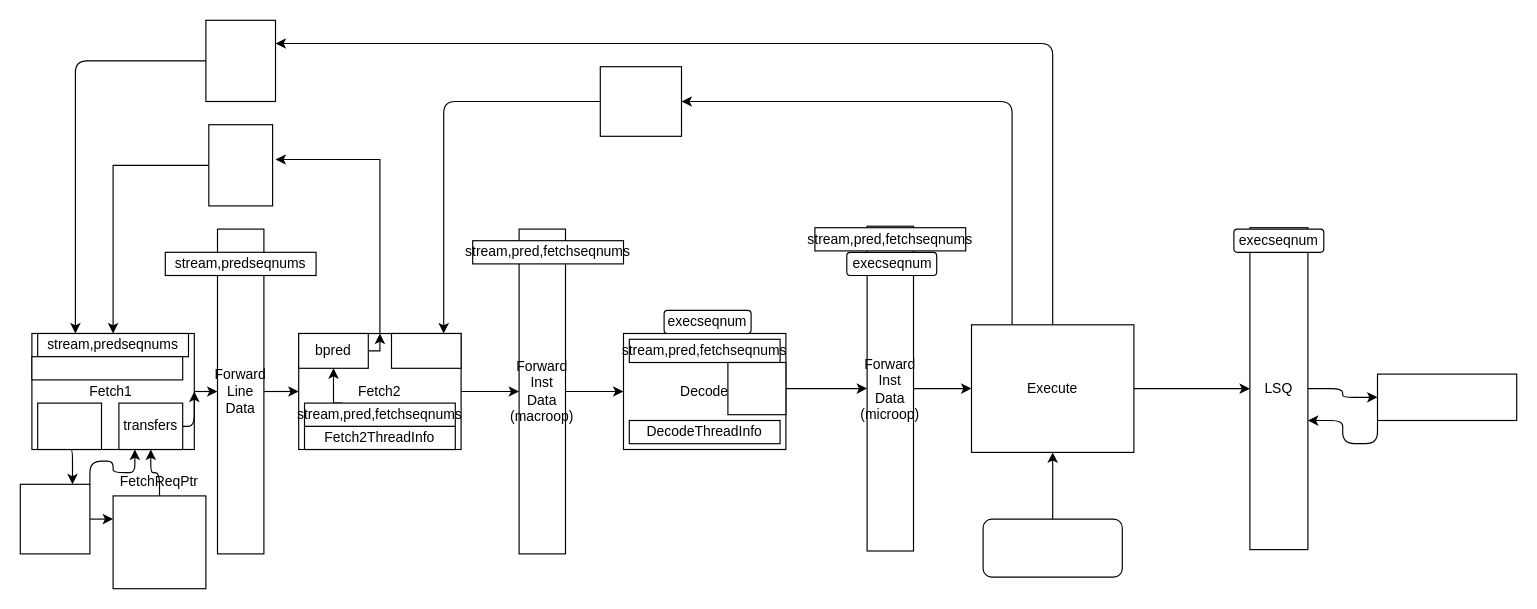
Some shapes in this 1537 by 609 pixel diagram are drawn without their labels. Here are the shapes that lost their labels. From the top down, the centre of each, then its label:
the point at 240,60: newstream seqnums
the point at 640,101: updatebpred and flush
the point at 240,165: newpred seqnums
the point at 107,368: Fetch1ThreadInfo
the point at 425,350: decoder
the point at 756,388: microop decomp
the point at 1446,396: Dcache
the point at 69,425: requests
the point at 54,518: ITLB
the point at 159,542: Icache
the point at 1052,547: Reg file
